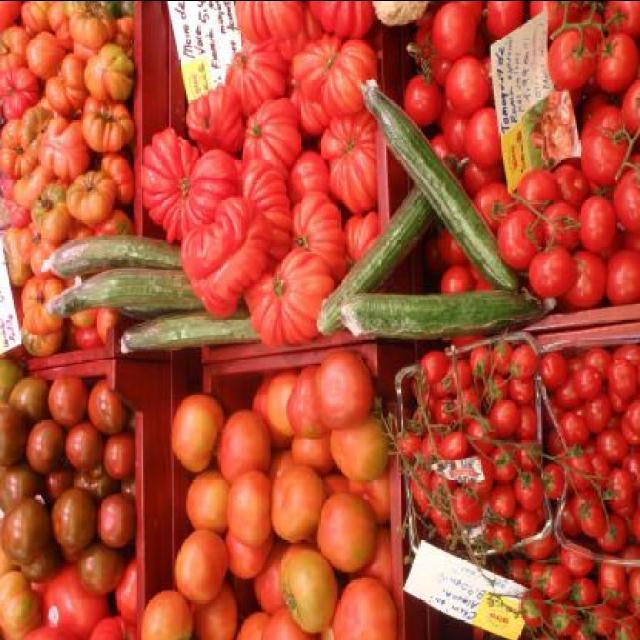Tomato: (0, 2, 638, 640), (527, 230, 581, 292)
